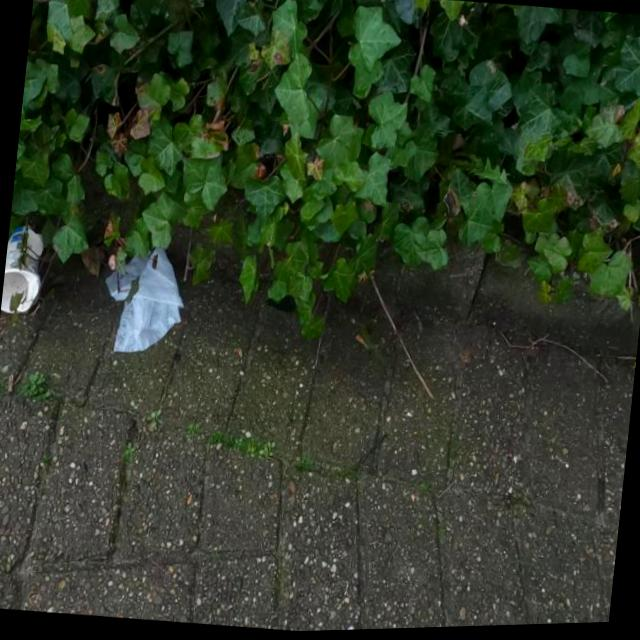Cup: (0, 223, 46, 322)
